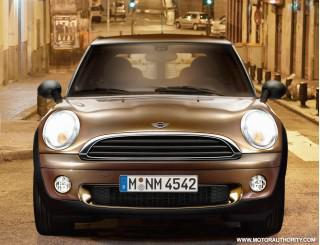mini: (145, 115, 179, 133)
